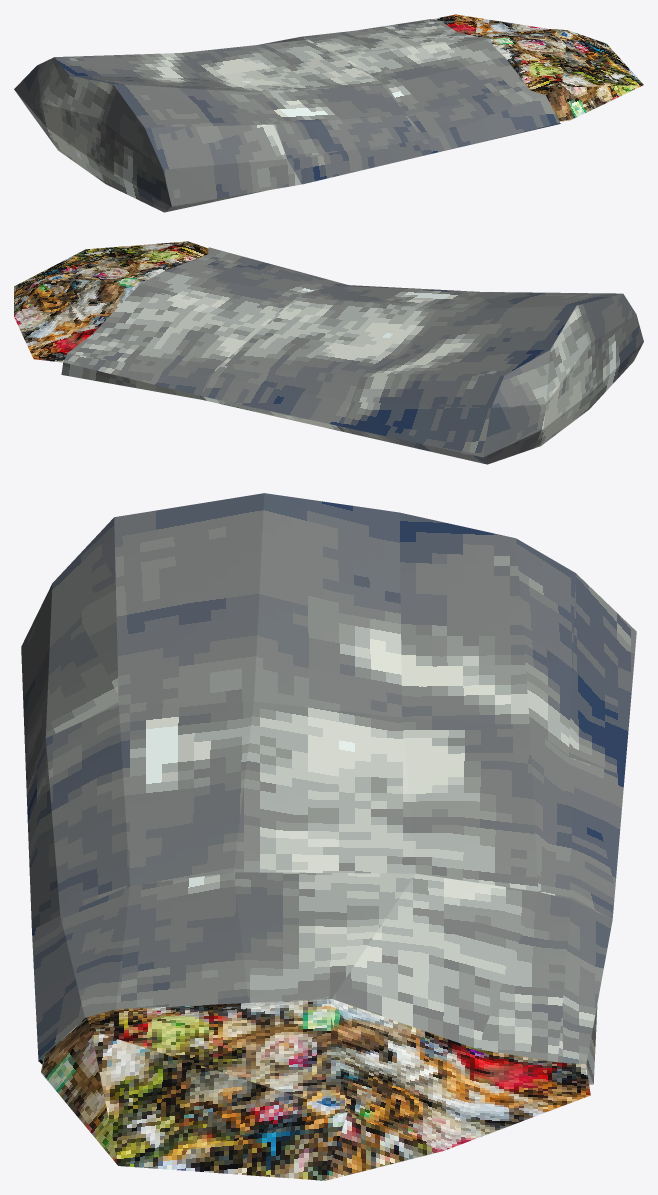
Rendered from trashbag_3_white.glb.
3 renders of one model, top to bottom at view 1: azimuth 30°, elevation 25°; view 2: azimuth 150°, elevation 25°; view 3: azimuth 270°, elevation 25°, orthographic. The views are drawn at different scales.
Visible parts, largest first — view 1: trashbag_3_white; view 2: trashbag_3_white; view 3: trashbag_3_white.
Boxes of the visible parts, x1,y1,x2,y2 form: trashbag_3_white: (14,14,643,212); trashbag_3_white: (14,241,643,464); trashbag_3_white: (21,493,636,1180).
Bounding box in the file's own units: 1.73 × 0.3175 × 0.8694.
2 materials, 2 textured.
